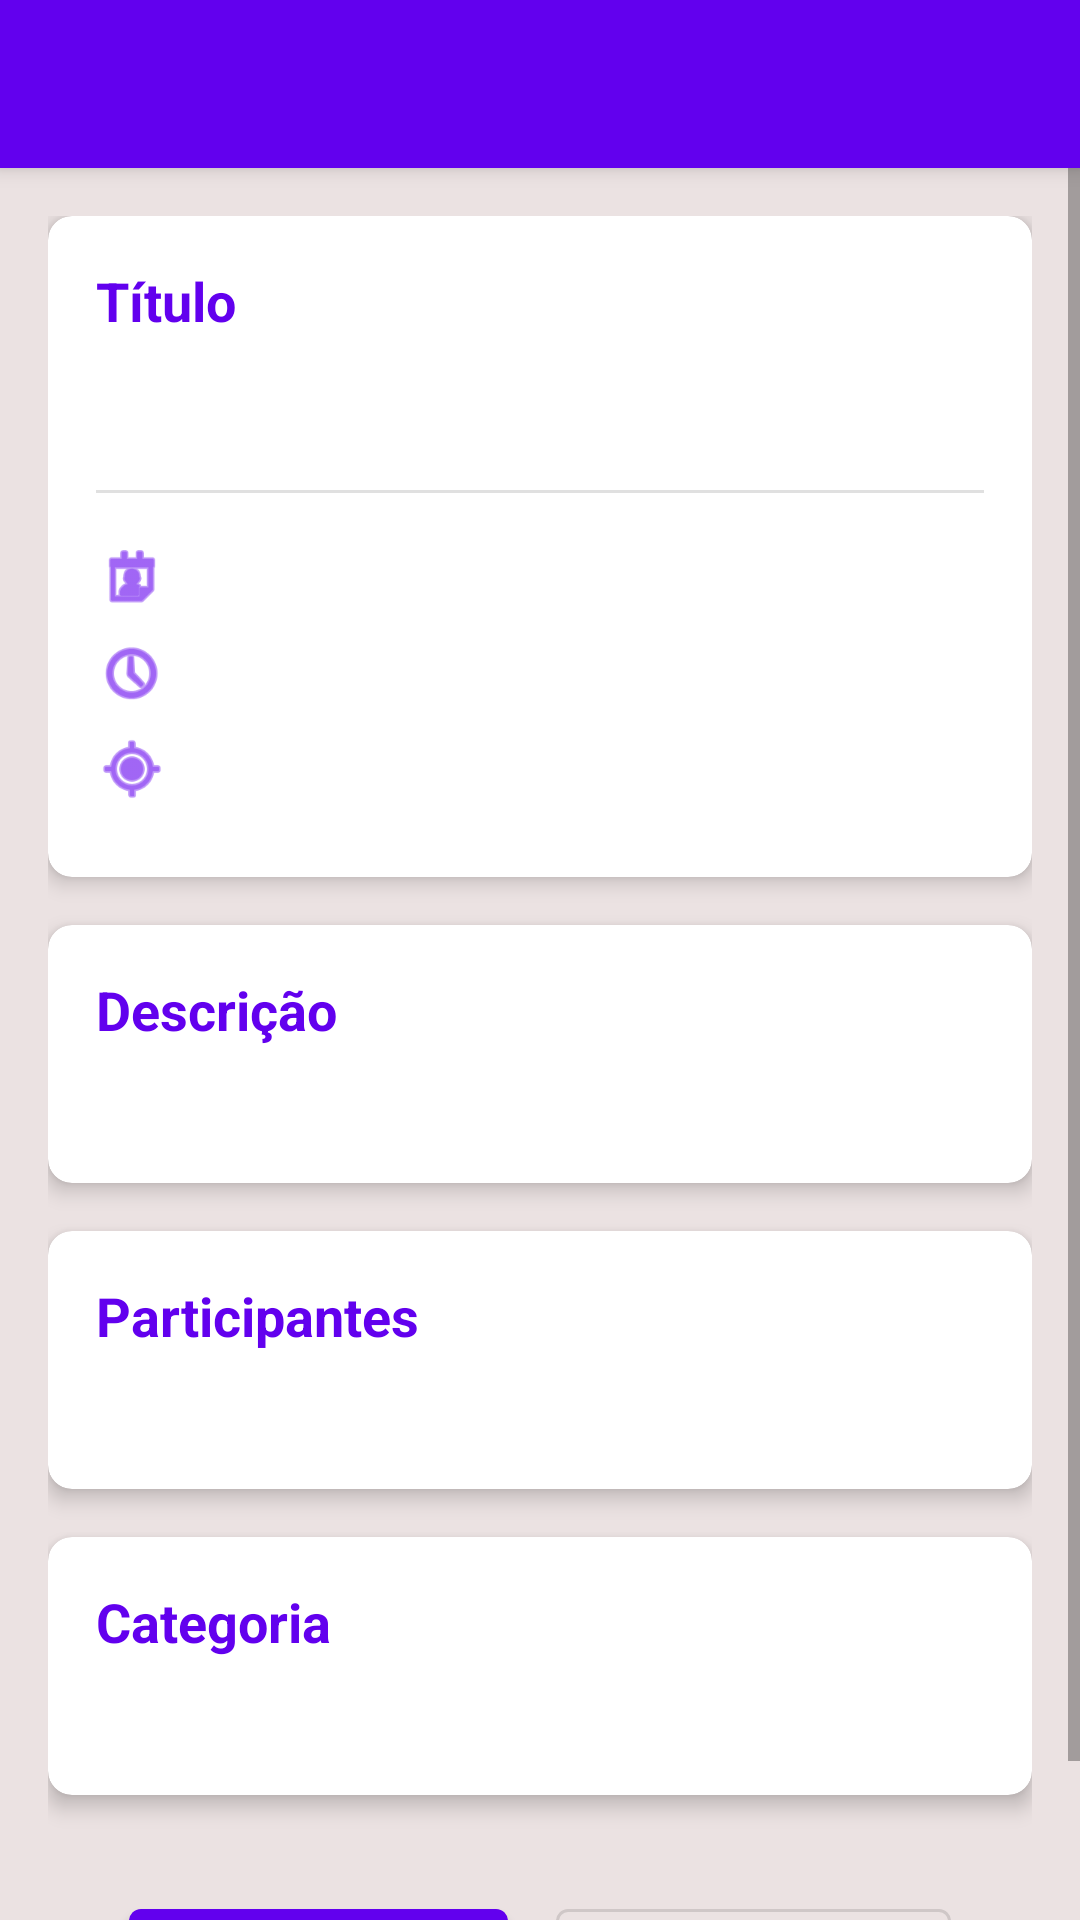

Icon bounding boxes for this 1080×1920 phone screenshot, format (x1, y1, x2, y2):
calendar: (109, 550, 155, 603)
mylocation: (103, 740, 161, 798)
recent history: (105, 647, 158, 699)
